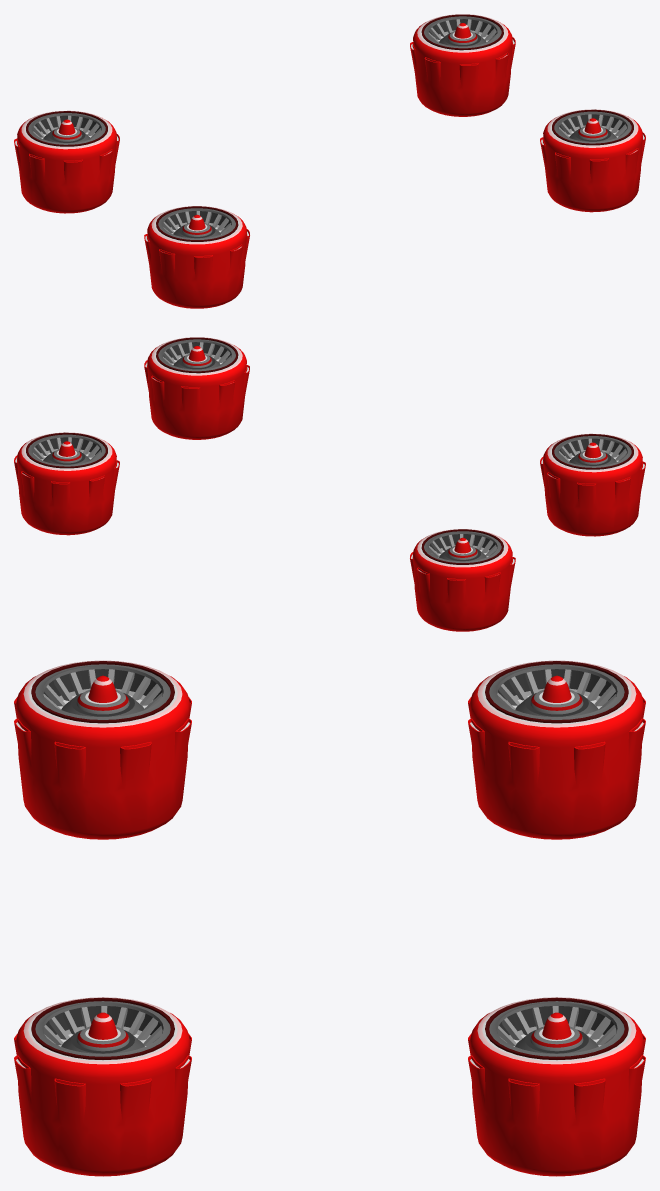
File: Mesh_SpaceShip_Reactors.fbx
The picture shows the model from 3 angles, top to bottom: view 1: azimuth 30°, elevation 25°; view 2: azimuth 150°, elevation 25°; view 3: azimuth 270°, elevation 25°; orthographic projection. The views are drawn at different scales.
Visible parts, largest first — view 1: Cylinder.004; view 2: Cylinder.004; view 3: Cylinder.004.
Part boxes in pixels (<box>): Cylinder.004: <box>14,14,645,308</box>; Cylinder.004: <box>14,337,645,631</box>; Cylinder.004: <box>14,660,645,1176</box>.
Size of the model in its own units: 74.45 by 11.46 by 48.26.
